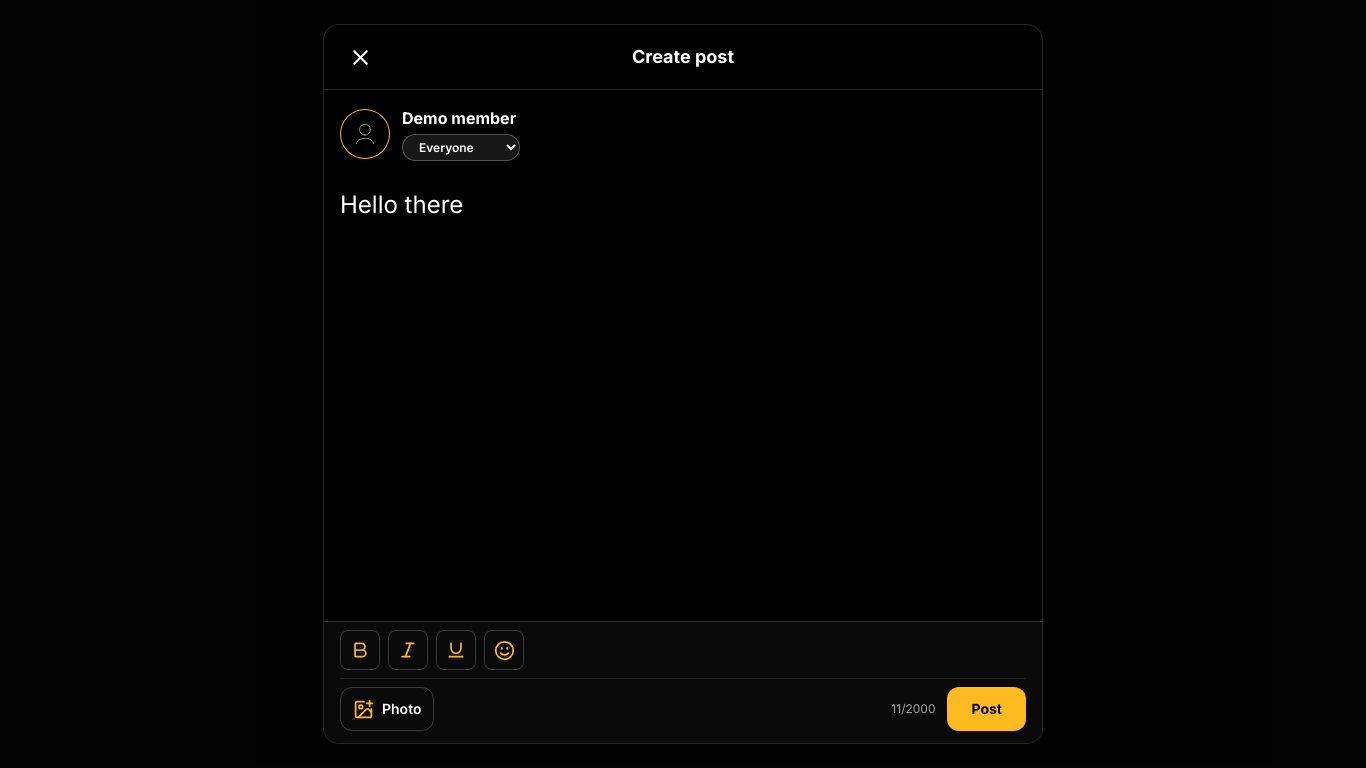
Test case: inserts an emoji at the selected caret instead of replacing the whole draft
This screenshot has width=1366, height=768.
Click the button named "Add emoji" at (504,650), box [484,630,524,670]
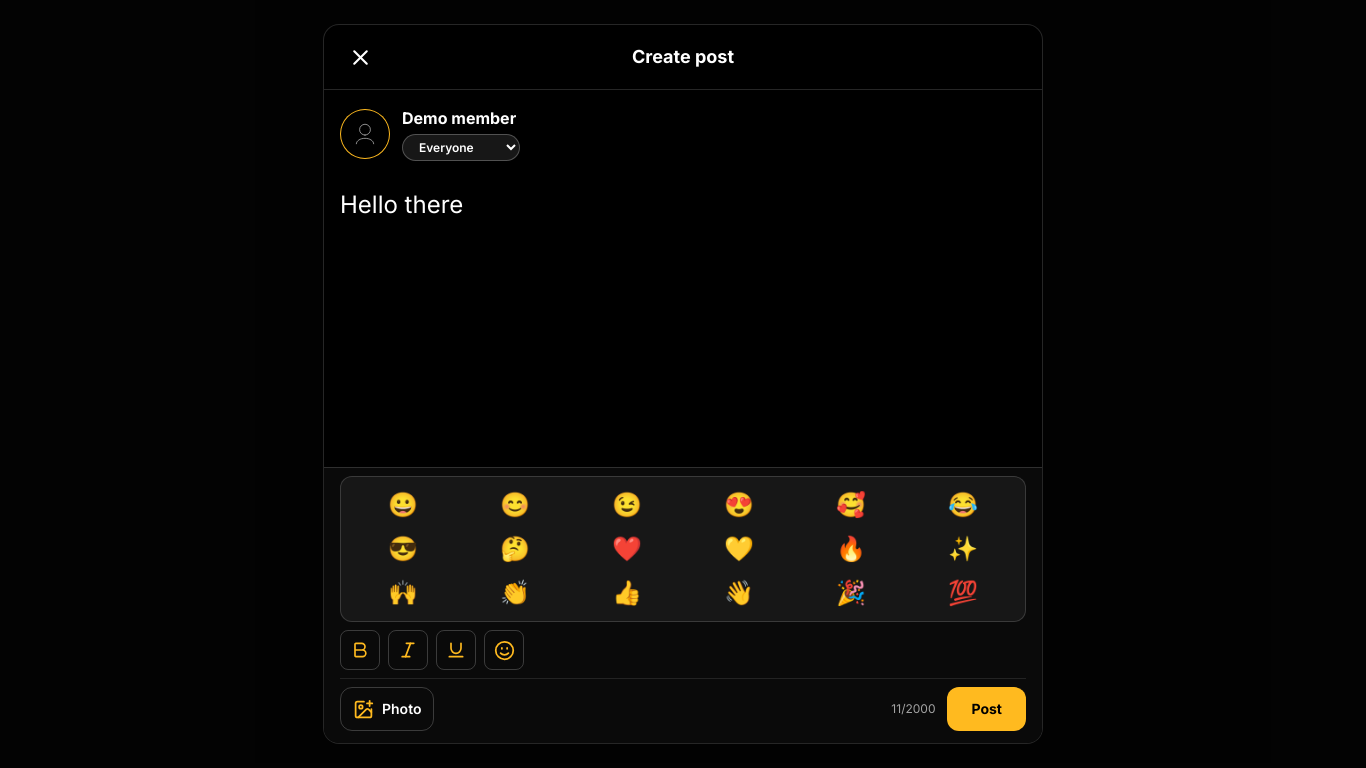
Click the button named "Fire" at (851,549), box [797,529,905,569]
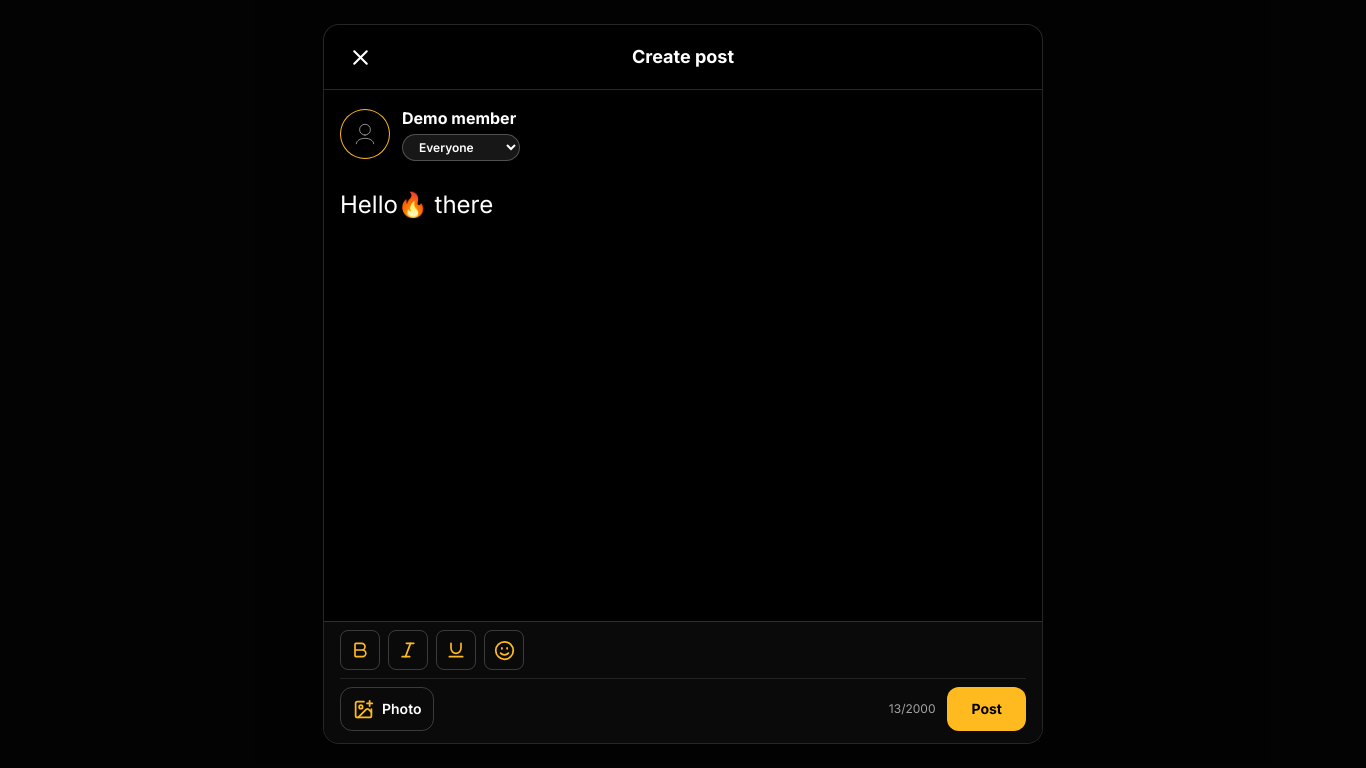
Result: the text box holds "Hello🔥 there" at [340,177,1026,595]
